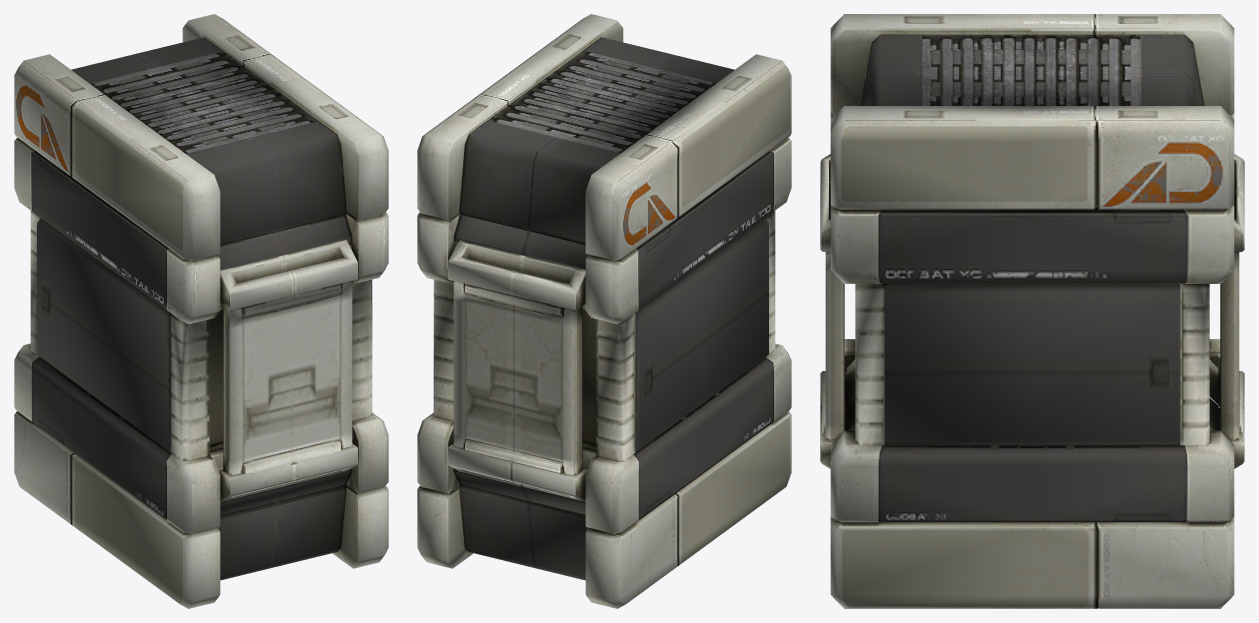
File: Crate01_L.FBX
The picture shows the model from 3 angles, left to right: view 1: azimuth 30°, elevation 25°; view 2: azimuth 150°, elevation 25°; view 3: azimuth 270°, elevation 25°; orthographic projection. The views are drawn at different scales.
Visible parts, largest first — view 1: Crate01_L; view 2: Crate01_L; view 3: Crate01_L.
Part boxes in pixels (x1,y1,x2,y2): Crate01_L: [14, 14, 388, 608]; Crate01_L: [417, 14, 791, 608]; Crate01_L: [820, 14, 1244, 608].
Bounding box in the file's own units: 1 × 2 × 1.58.
